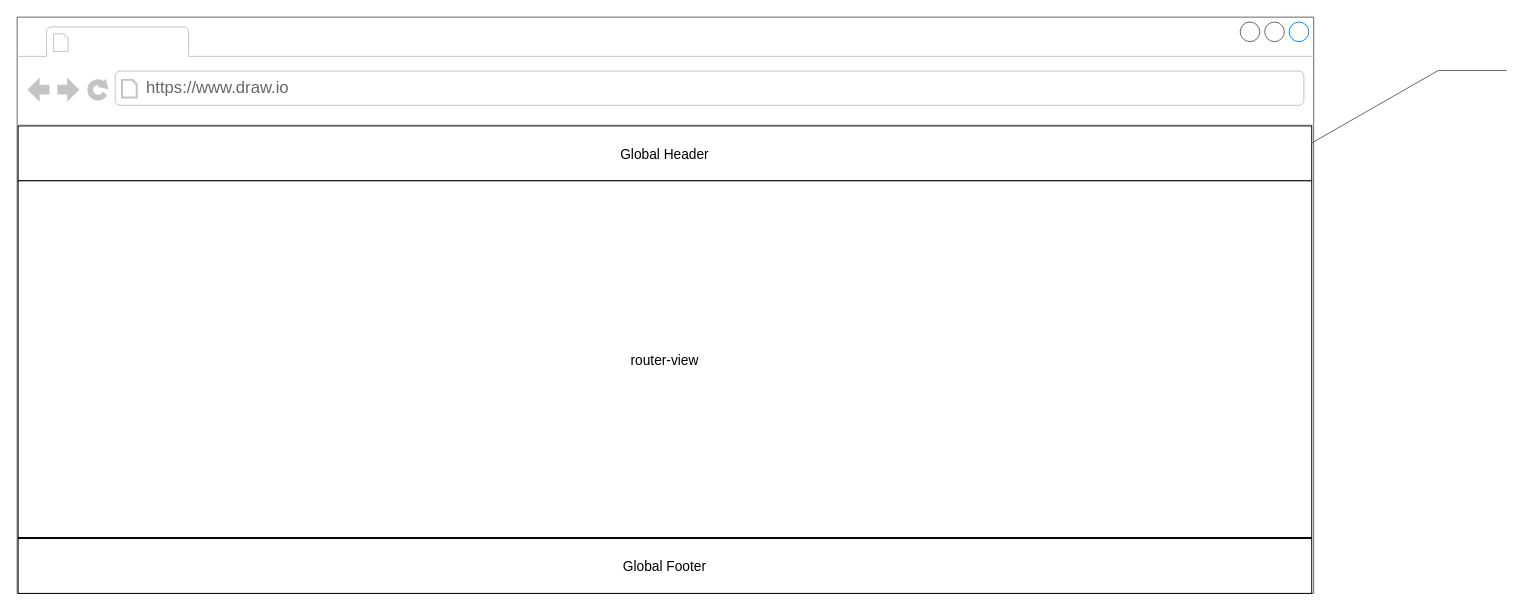
This 1524x611 diagram has some shape labels left out. The shapes that lost their labels are listed below. From the top down, each one's centre as x and y in pixels, then its label:
At [129,41]: "Page 1".
At [1408,94]: "APP".
